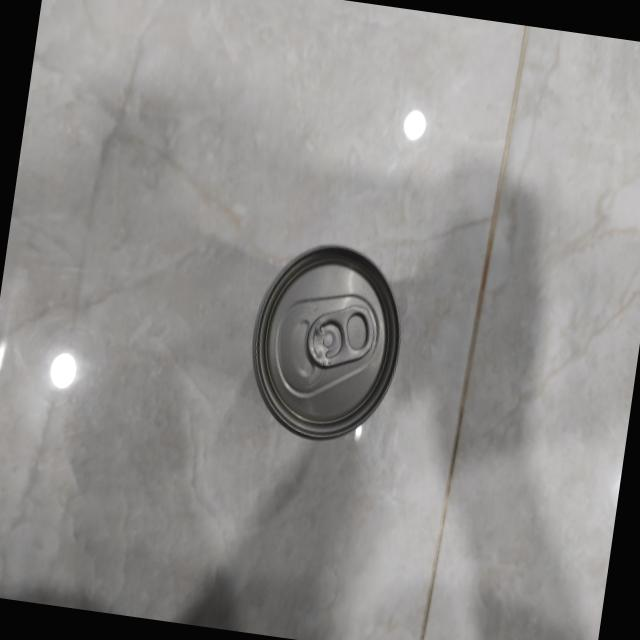kim_loai: (253, 246, 400, 439)
